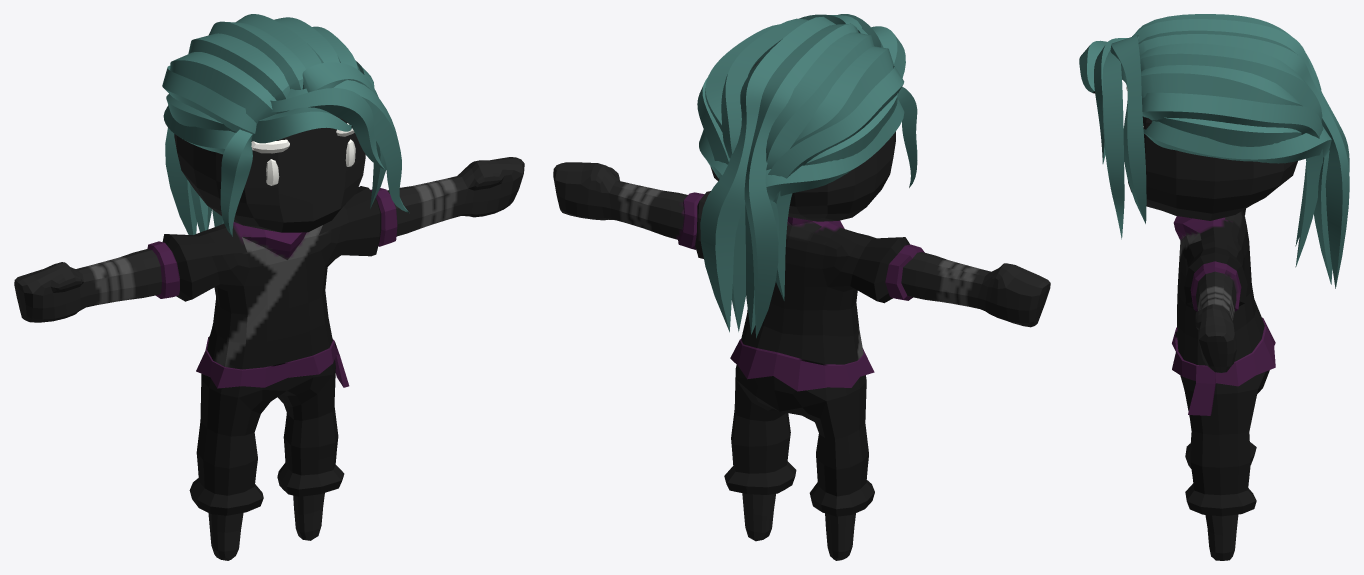
The model's file is Ninja_Female.fbx.
The picture shows the model from 3 angles, left to right: view 1: azimuth 30°, elevation 25°; view 2: azimuth 150°, elevation 25°; view 3: azimuth 270°, elevation 25°; orthographic projection. The views are drawn at different scales.
Visible parts, largest first — view 1: Body; view 2: Body; view 3: Body.
Boxes of the visible parts, x1,y1,x2,y2 form: Body: (14, 14, 524, 560); Body: (553, 14, 1050, 560); Body: (1079, 14, 1349, 560).
Bounding box in the file's own units: 324 × 320 × 153.
1 material, 1 textured.
